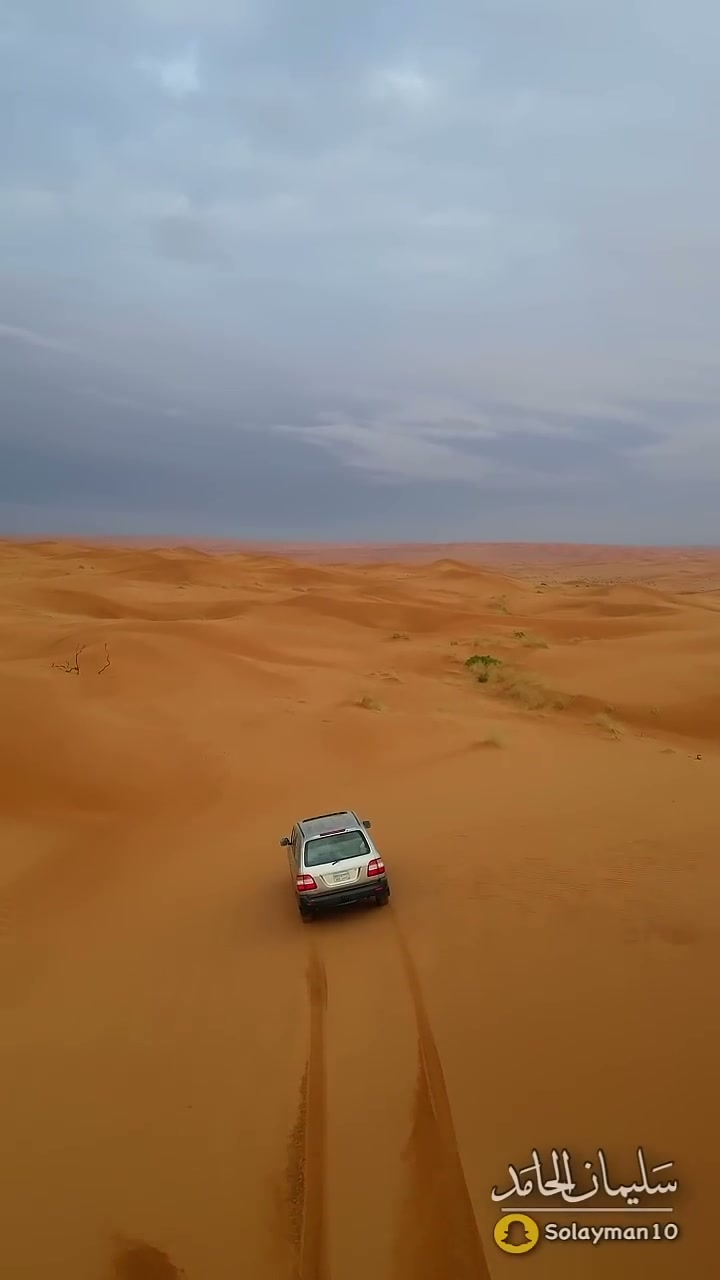vehicle_track: (341, 916, 489, 1279), (394, 918, 489, 1279), (288, 947, 328, 1279)
